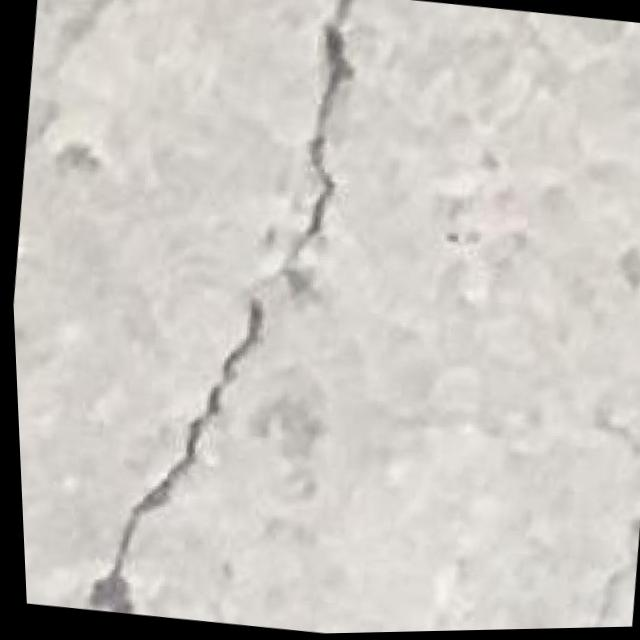Crack: (55, 0, 397, 638)
